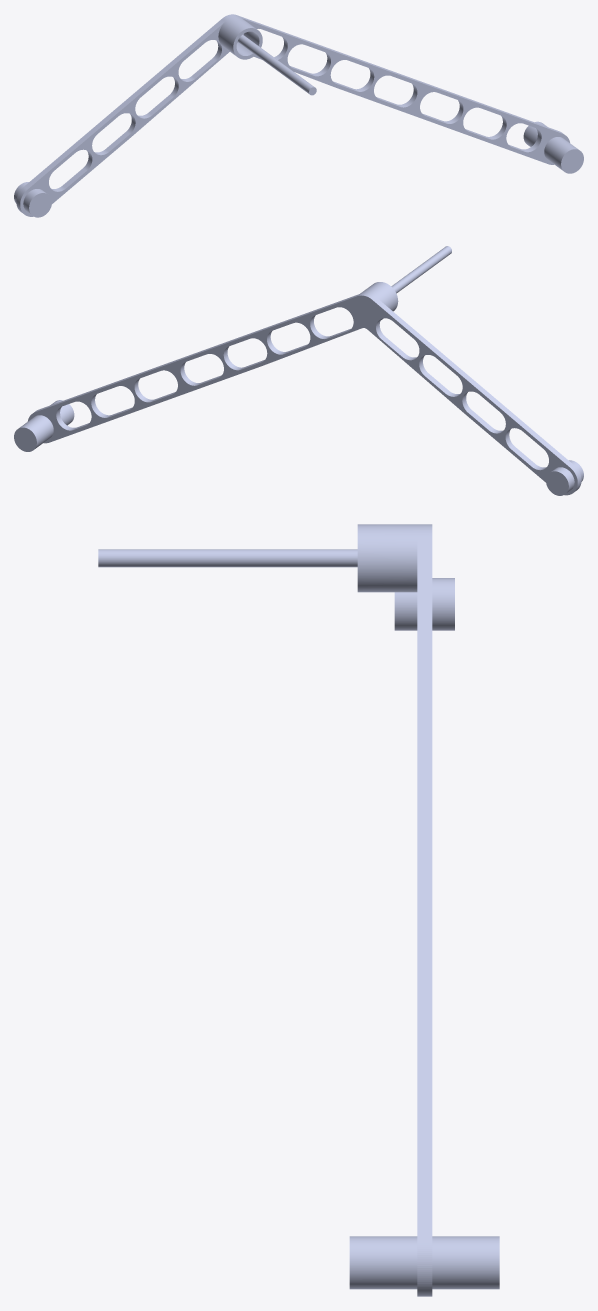
Rendered from Pata1.dae.
3 renders of one model, top to bottom at view 1: azimuth 30°, elevation 25°; view 2: azimuth 150°, elevation 25°; view 3: azimuth 270°, elevation 25°, orthographic. The views are drawn at different scales.
Visible parts, largest first — view 1: 5eb4981d9224e0139b2b551a; view 2: 5eb4981d9224e0139b2b551a; view 3: 5eb4981d9224e0139b2b551a.
Boxes of the visible parts, x1,y1,x2,y2 form: 5eb4981d9224e0139b2b551a: [14, 14, 583, 217]; 5eb4981d9224e0139b2b551a: [14, 246, 583, 495]; 5eb4981d9224e0139b2b551a: [98, 524, 499, 1296].
Size of the model in its own units: 1.07 by 0.3373 by 0.4186.
